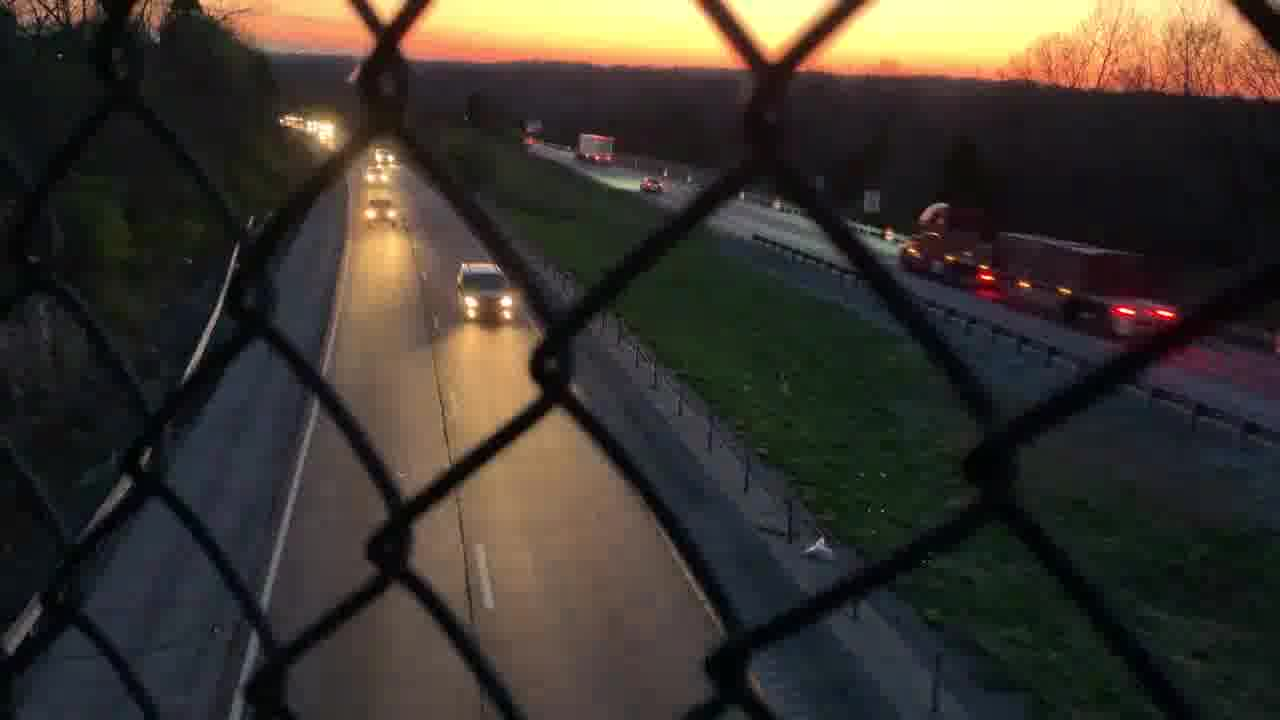heavyTruck: (899, 198, 1200, 344), (574, 131, 617, 168)
largeCar: (450, 260, 518, 326), (640, 175, 667, 198)
